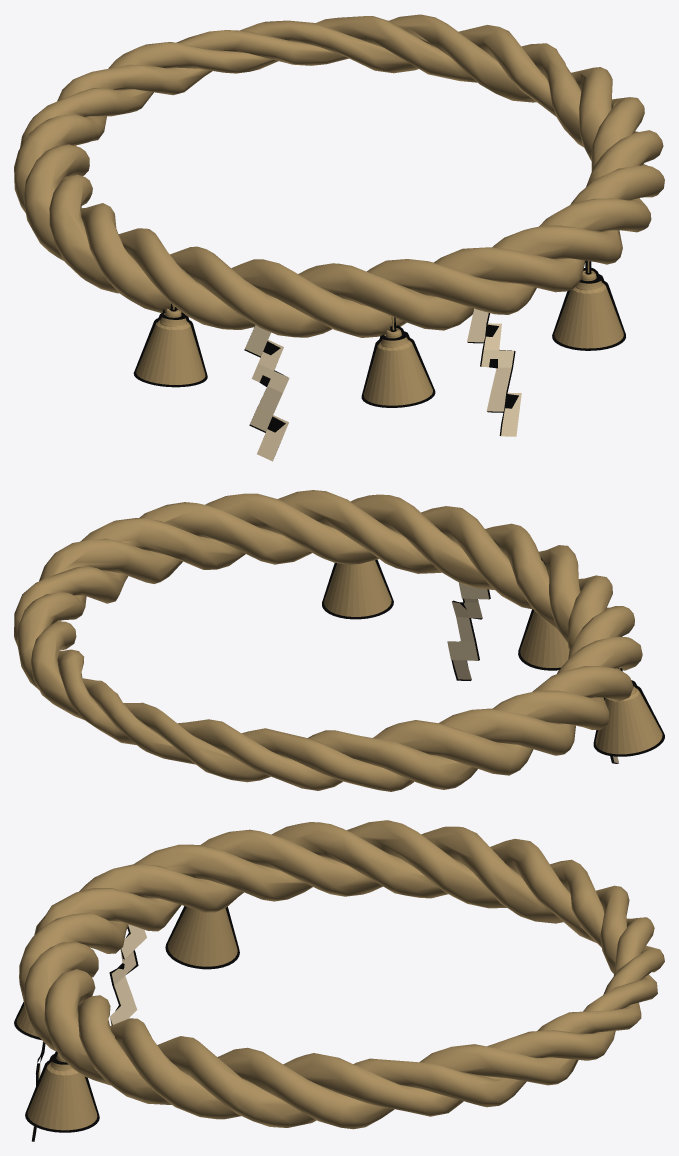
Rendered from env_Shimenawa.glb.
The picture shows the model from 3 angles, top to bottom: view 1: azimuth 30°, elevation 25°; view 2: azimuth 150°, elevation 25°; view 3: azimuth 270°, elevation 25°; orthographic projection. The views are drawn at different scales.
Visible parts, largest first — view 1: Circle; view 2: Circle; view 3: Circle.
Boxes of the visible parts, x1,y1,x2,y2 form: Circle: (14,14,664,461); Circle: (14,490,664,791); Circle: (14,820,664,1141).
Bounding box in the file's own units: 0.5358 × 0.1839 × 0.5321.
Materials: 2 (1 with a texture image).
